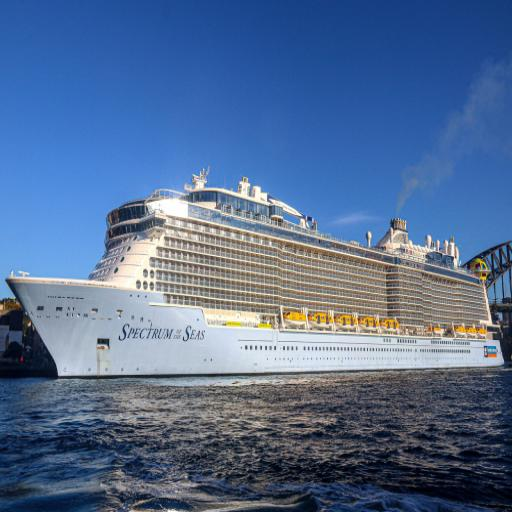cruises: (9, 157, 508, 384)
